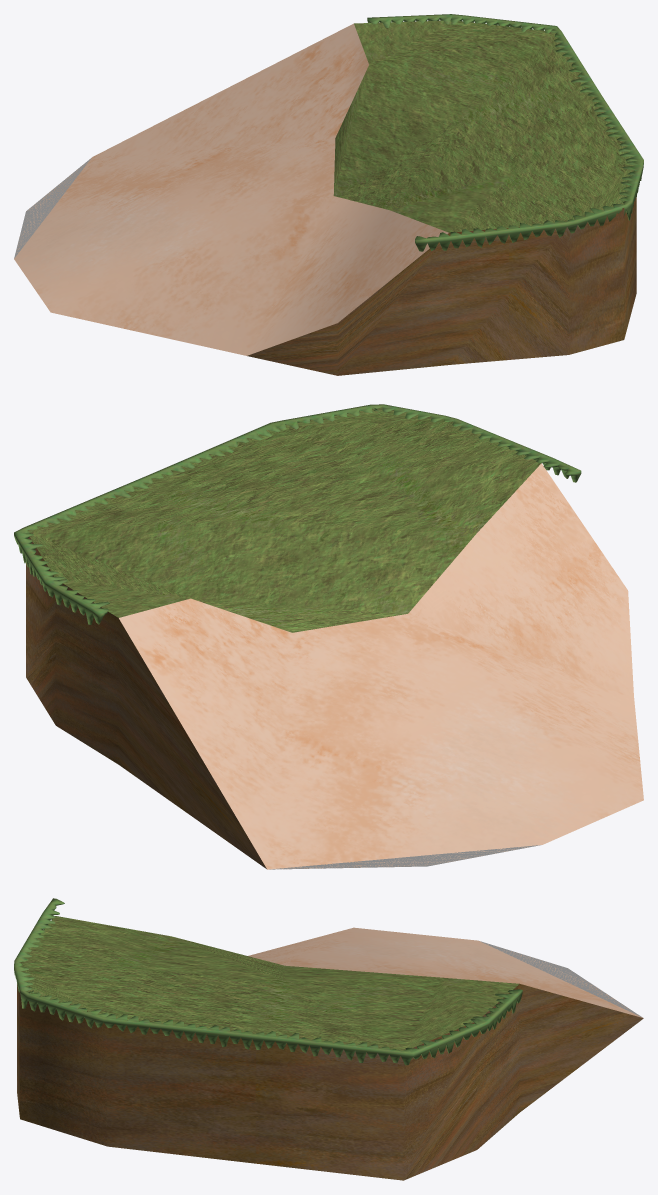
Rendered from One_level_Beach_01.FBX.
3 views of the same model, one above another, from view 1: azimuth 30°, elevation 25°; view 2: azimuth 150°, elevation 25°; view 3: azimuth 270°, elevation 25° (orthographic). The views are drawn at different scales.
Parts seen in each view (by area): view 1: Box004, Box006; view 2: Box004, Box006; view 3: Box004, Box006.
Boxes of the visible parts, x1,y1,x2,y2 form: Box004: [14, 20, 636, 375]; Box006: [367, 14, 643, 251]; Box004: [26, 407, 643, 869]; Box006: [14, 404, 581, 624]; Box004: [17, 916, 643, 1180]; Box006: [14, 898, 522, 1065].
Bounding box in the file's own units: 6.31 × 1.5 × 6.58.
